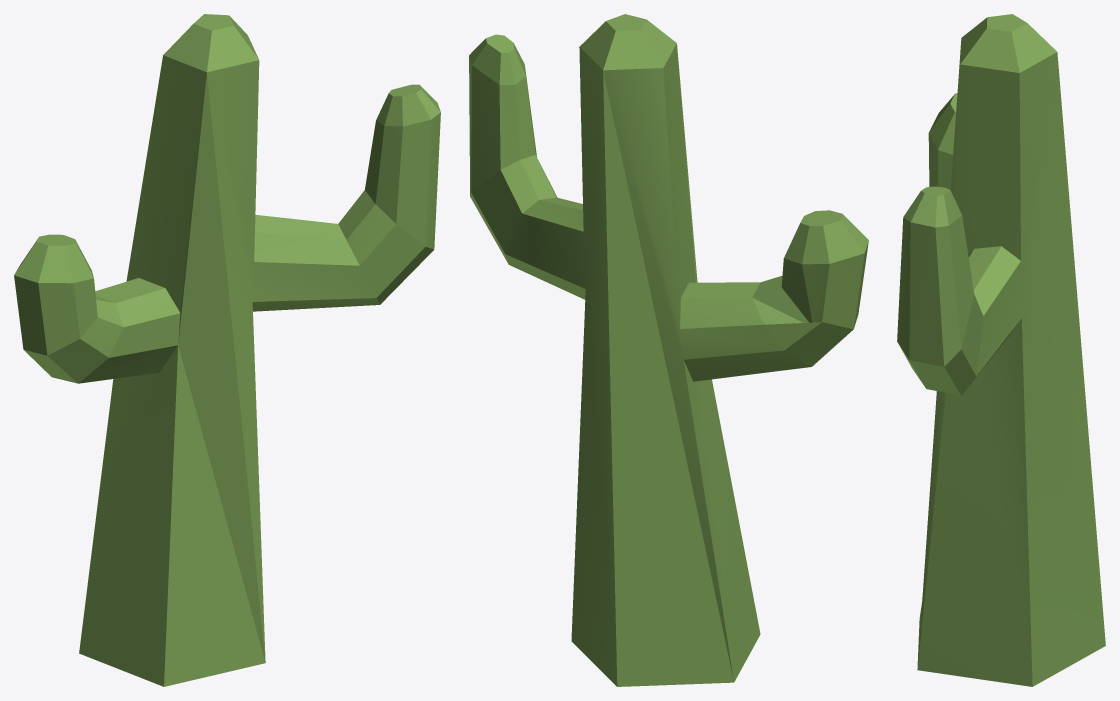
Rendered from Cactus_01.fbx.
The picture shows the model from 3 angles, left to right: view 1: azimuth 30°, elevation 25°; view 2: azimuth 150°, elevation 25°; view 3: azimuth 270°, elevation 25°; orthographic projection. The views are drawn at different scales.
Visible parts, largest first — view 1: Model; view 2: Model; view 3: Model.
Part boxes in pixels (x1,y1,x2,y2): Model: (14,14,440,686); Model: (469,14,868,686); Model: (897,14,1105,686).
Size of the model in its own units: 240 by 345 by 102.
